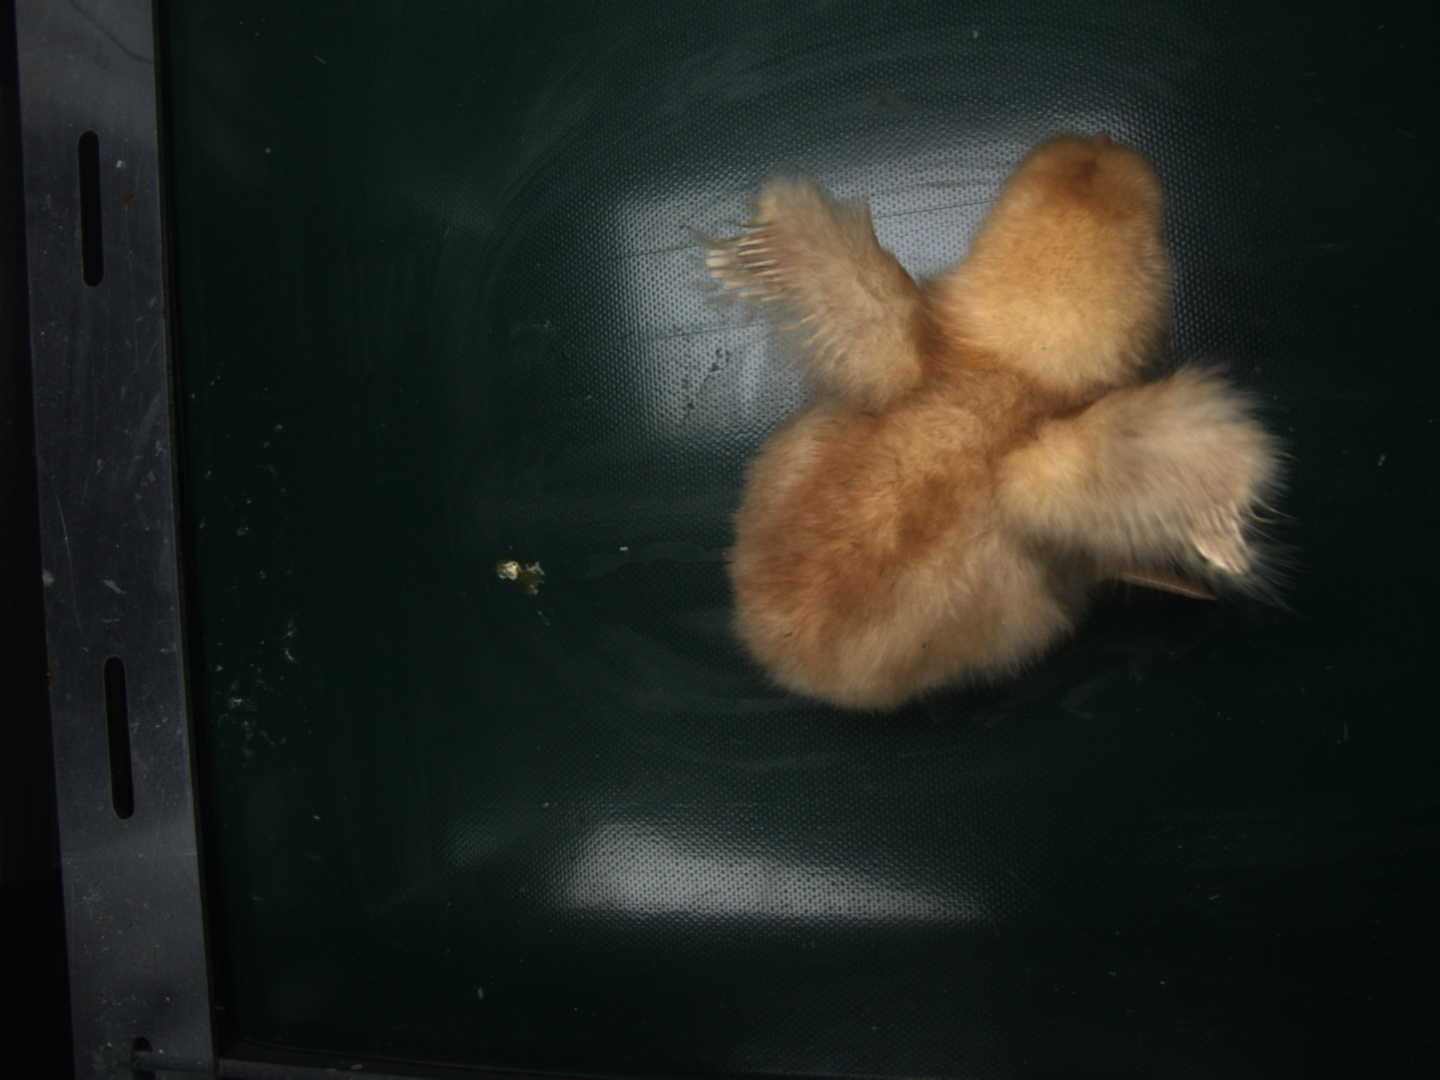female: (708, 223, 795, 309)
